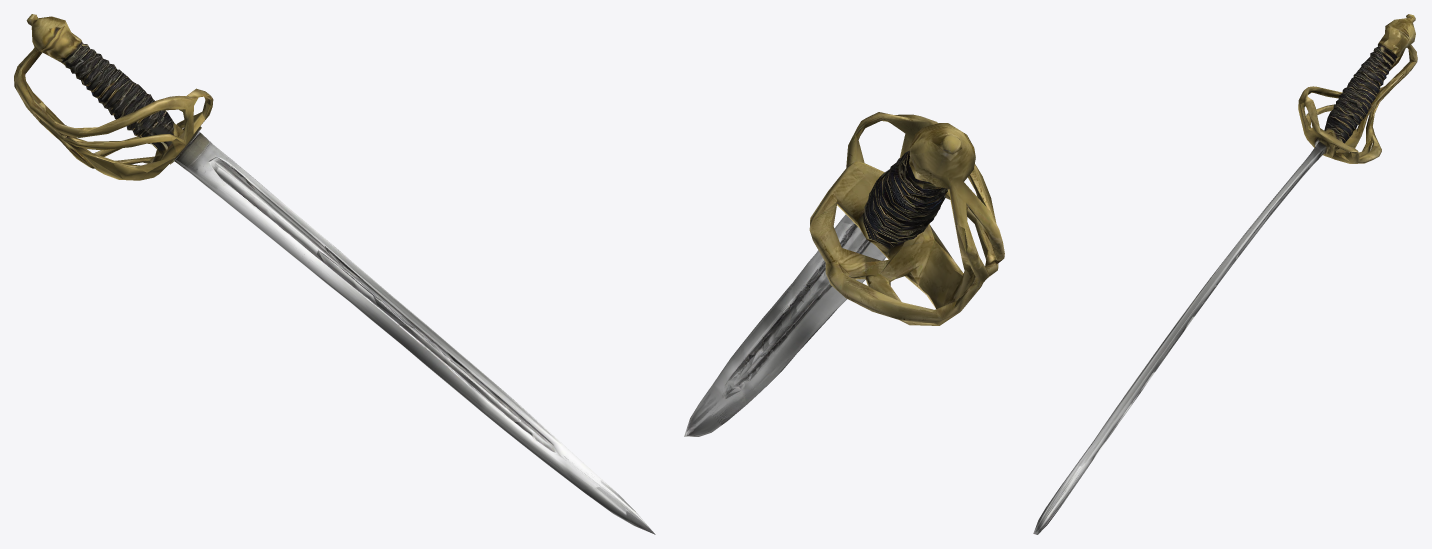
Rendered from ebf0edf9-d446-4fa7-a0a7-d1db4e6123ed.glb.
The picture shows the model from 3 angles, left to right: view 1: azimuth 30°, elevation 25°; view 2: azimuth 150°, elevation 25°; view 3: azimuth 270°, elevation 25°; orthographic projection. The views are drawn at different scales.
Visible parts, largest first — view 1: Mesh_0; view 2: Mesh_0; view 3: Mesh_0.
Boxes of the visible parts, box(x1,y1,x2,y2) form: Mesh_0: box(14, 14, 655, 534); Mesh_0: box(684, 112, 1004, 436); Mesh_0: box(1033, 14, 1417, 534).
Bounding box in the file's own units: 0.9723 × 1 × 0.9547.
1 material, 1 textured.
